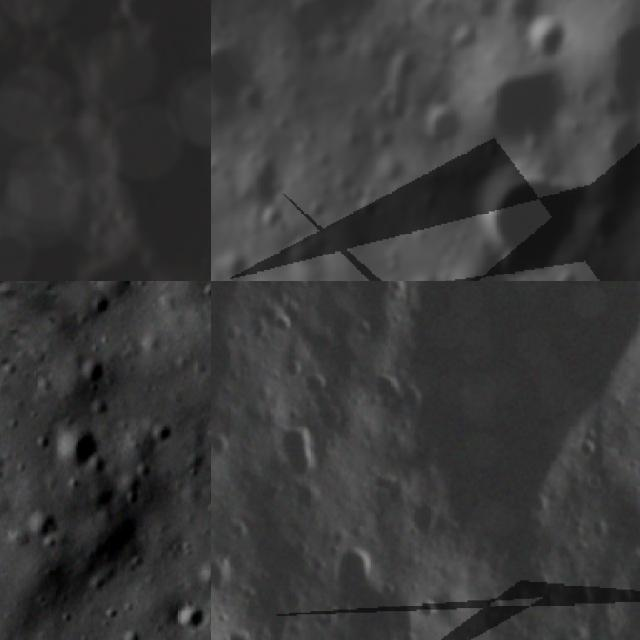crater: (385, 281, 640, 574), (472, 163, 609, 281), (473, 59, 592, 158), (323, 530, 426, 640), (38, 404, 117, 482), (281, 0, 388, 53), (264, 408, 324, 487), (211, 34, 258, 114), (518, 7, 581, 64), (22, 494, 81, 553), (421, 104, 472, 158), (442, 254, 543, 281), (75, 346, 120, 390), (253, 204, 300, 242), (170, 597, 211, 640), (298, 368, 341, 404), (211, 551, 238, 605), (211, 427, 236, 465)
